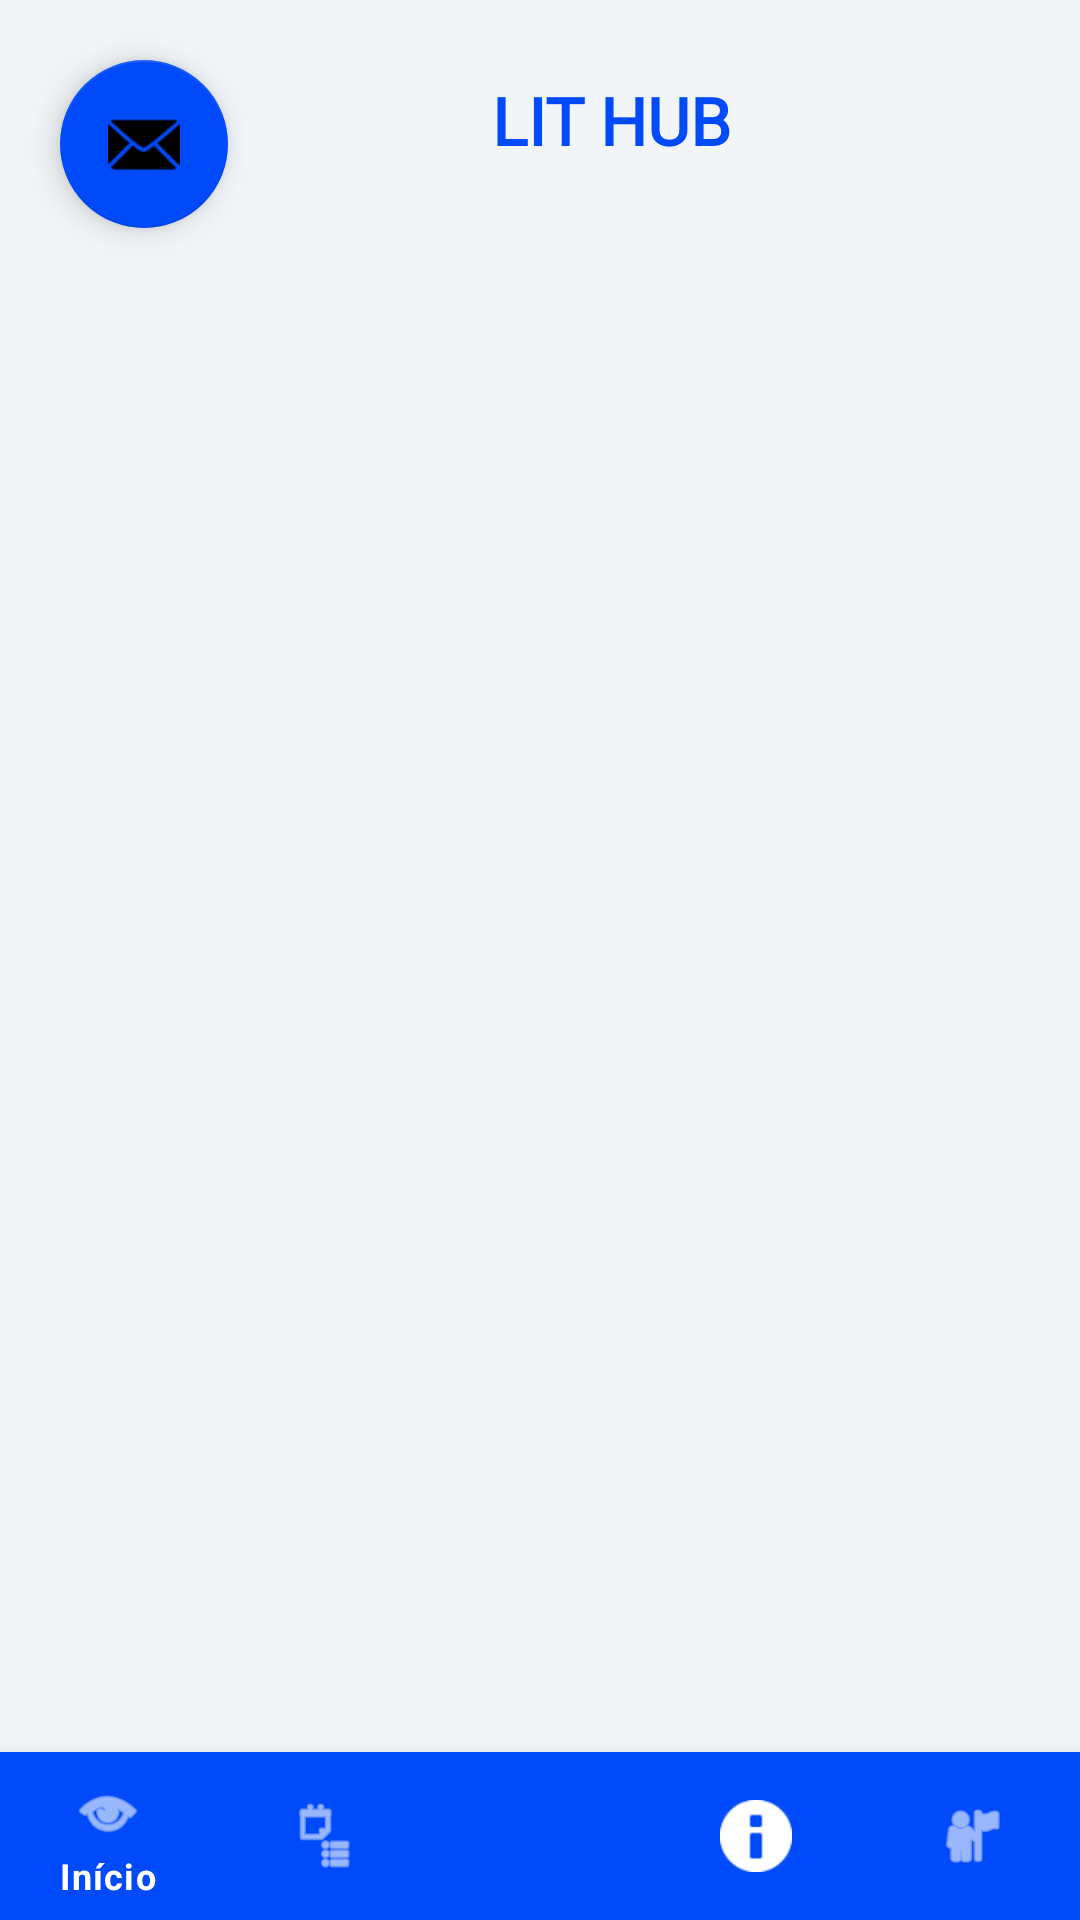

Screen size 1080 × 1920. Icon name, then its center in pixels as (x,y):
Novo chat: (144,144)
